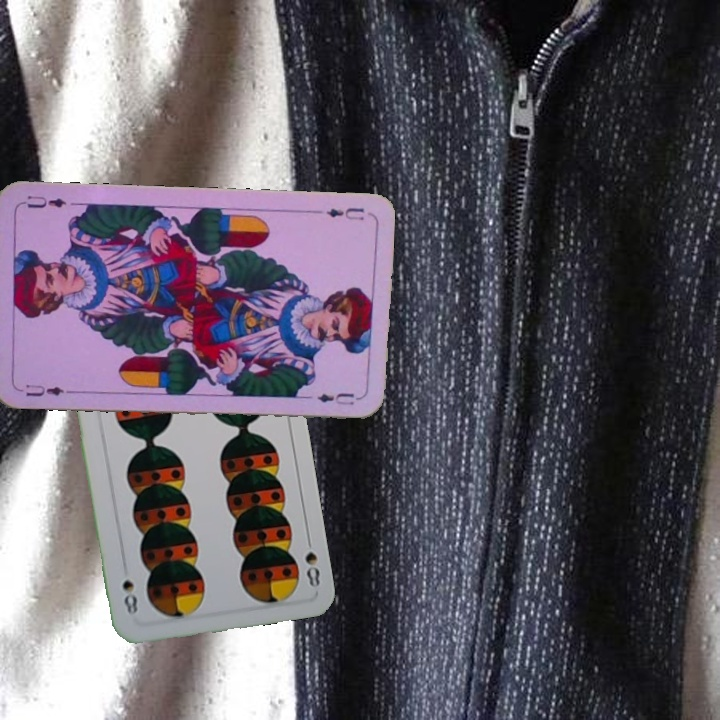EU: (13, 380, 72, 399), (323, 203, 367, 223)
S8: (301, 531, 323, 590)
